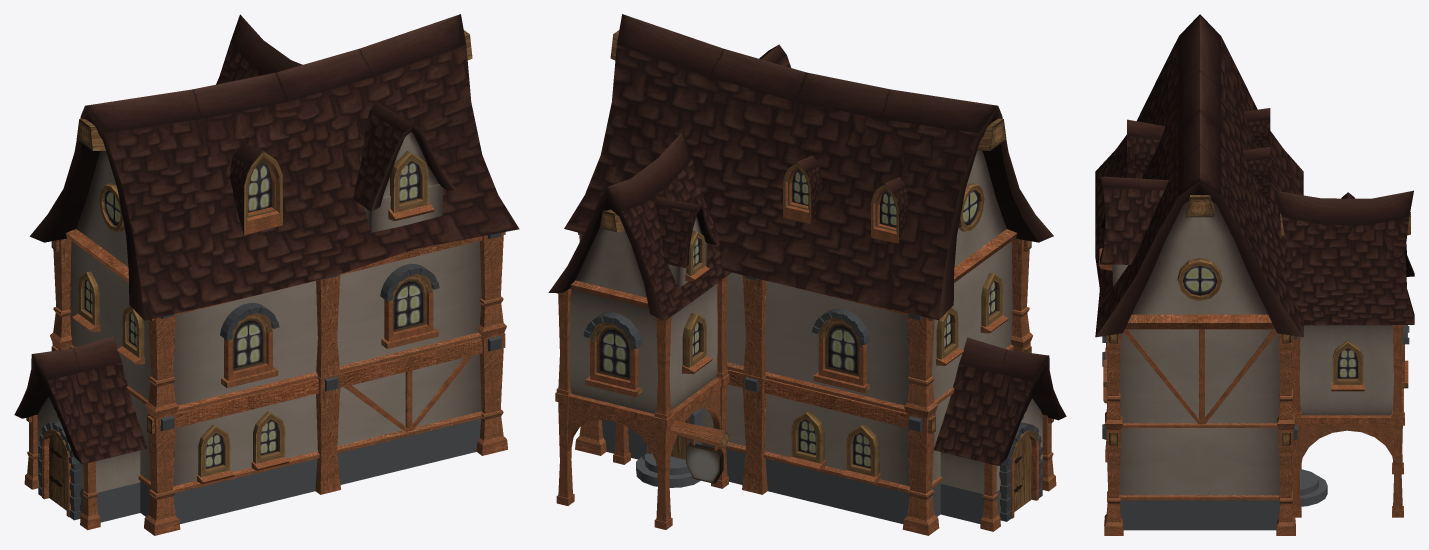
The model's file is fanasty_mod_village_building11.fbx.
3 views of the same model, side by side, from view 1: azimuth 30°, elevation 25°; view 2: azimuth 150°, elevation 25°; view 3: azimuth 270°, elevation 25° (orthographic). The views are drawn at different scales.
Parts seen in each view (by area): view 1: village_building_11; view 2: village_building_11; view 3: village_building_11.
Part boxes in pixels (left/top/right/bottom): village_building_11: left=14, top=14, right=519, bottom=535; village_building_11: left=548, top=14, right=1066, bottom=535; village_building_11: left=1095, top=14, right=1414, bottom=535.
Size of the model in its own units: 14.29 by 12.52 by 10.11.
